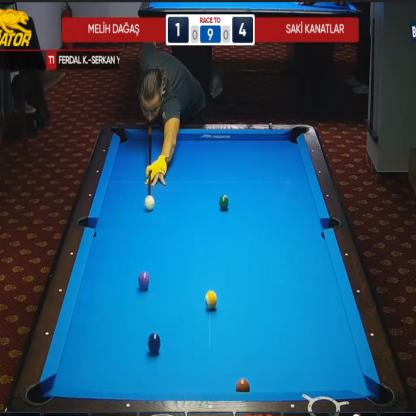Ball: (148, 333, 161, 354), (205, 290, 217, 310), (235, 378, 250, 392), (138, 272, 150, 289), (219, 195, 229, 210), (144, 196, 154, 210)
